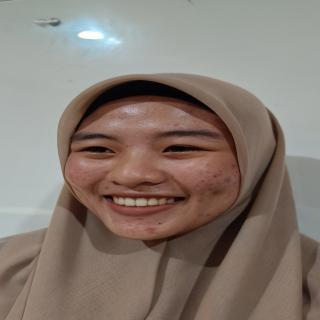Senang: (61, 80, 250, 247)
